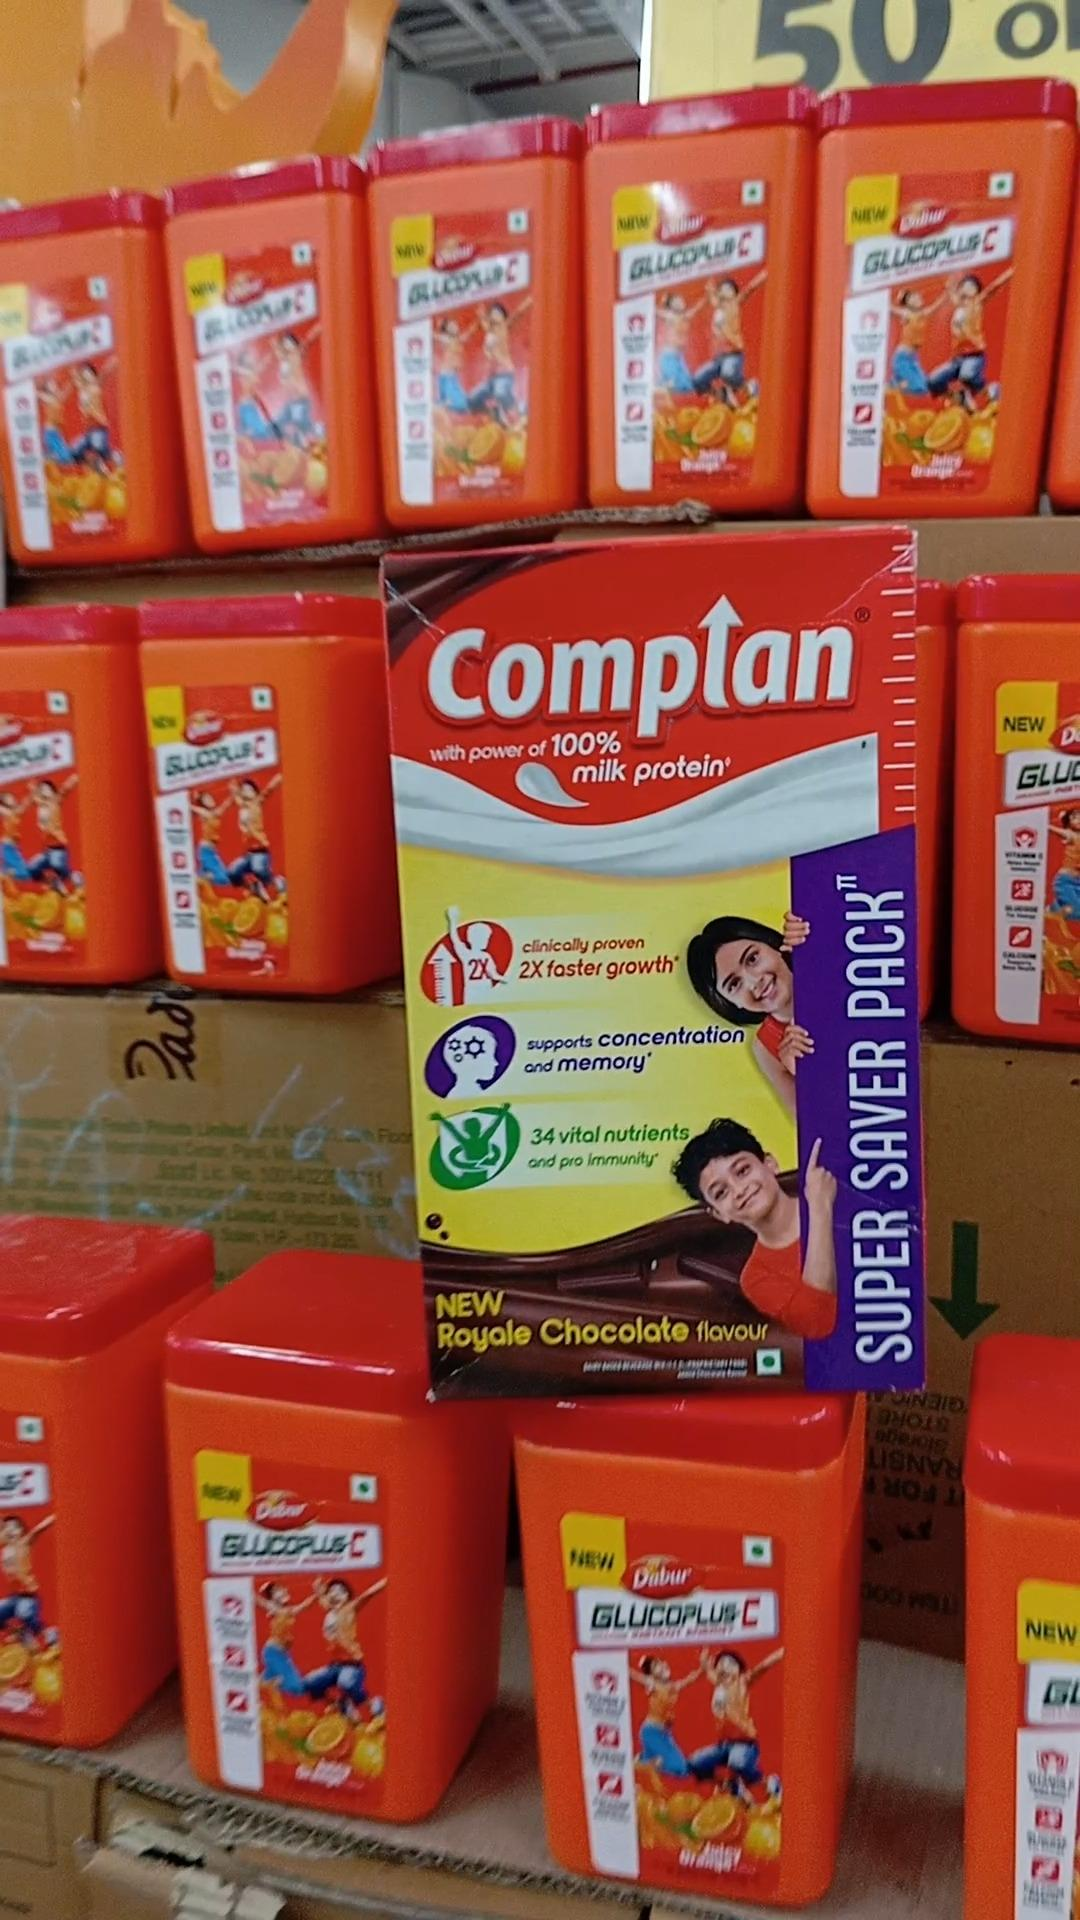COMPLAN_CHOCOLATE_1_KG_PACK: (389, 535, 922, 1400)
